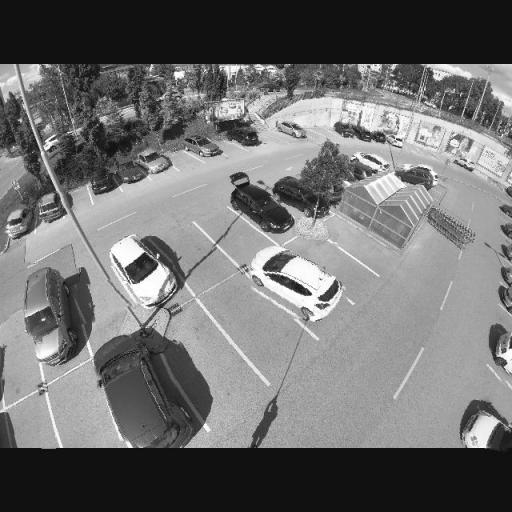busy: (94, 336, 178, 444), (249, 246, 348, 322), (8, 263, 78, 364), (106, 232, 180, 307), (456, 399, 512, 450), (232, 185, 291, 233), (487, 322, 512, 388), (277, 176, 323, 211), (35, 189, 66, 222), (4, 205, 34, 238), (394, 163, 434, 187), (139, 147, 173, 175), (110, 155, 143, 183), (184, 133, 220, 158), (88, 168, 116, 196), (356, 150, 390, 172), (232, 126, 261, 149), (278, 118, 308, 140), (334, 118, 358, 140), (350, 122, 375, 142), (366, 124, 388, 146), (452, 153, 476, 172), (386, 133, 403, 149)
free: (176, 334, 230, 374), (0, 331, 41, 383), (73, 281, 119, 324), (60, 398, 106, 440), (227, 300, 274, 338), (173, 242, 216, 274), (12, 420, 57, 448), (479, 378, 512, 416), (318, 251, 348, 277), (223, 222, 252, 248), (65, 189, 89, 211), (339, 228, 365, 248), (402, 142, 428, 158), (172, 154, 191, 168), (261, 132, 278, 146), (320, 128, 334, 140), (219, 142, 232, 152)
